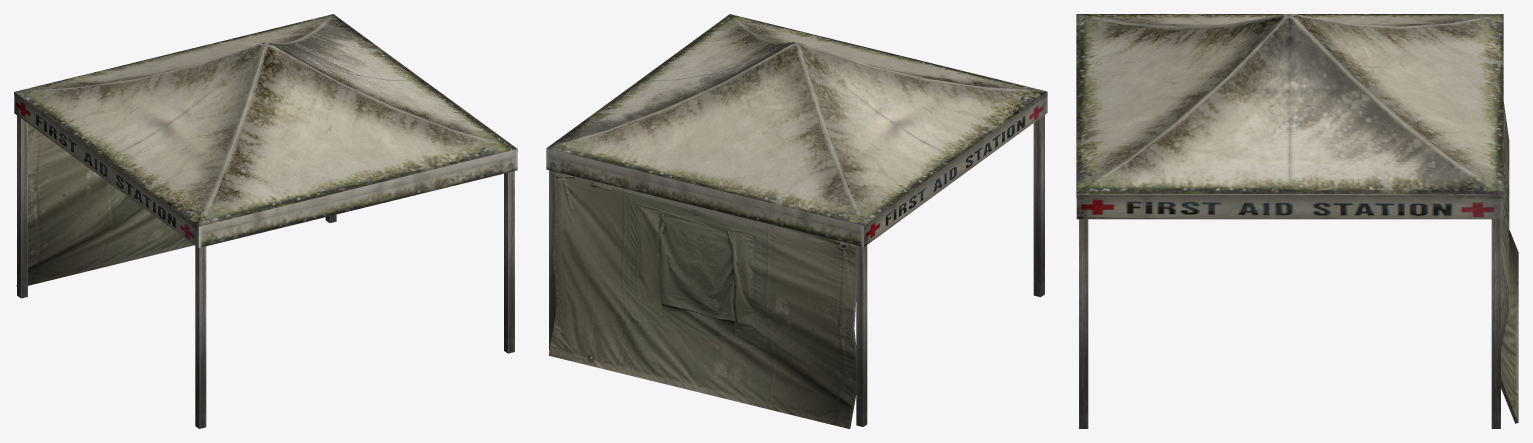
File: FirstAidTent.fbx
3 views of the same model, side by side, from view 1: azimuth 30°, elevation 25°; view 2: azimuth 150°, elevation 25°; view 3: azimuth 270°, elevation 25° (orthographic). The views are drawn at different scales.
Parts seen in each view (by area): view 1: FirstAidTent; view 2: FirstAidTent; view 3: FirstAidTent.
Part boxes in pixels (left/top/right/bottom): FirstAidTent: left=14, top=14, right=517, bottom=428; FirstAidTent: left=546, top=14, right=1047, bottom=428; FirstAidTent: left=1076, top=14, right=1518, bottom=428.
Bounding box in the file's own units: 539 × 450 × 558.
